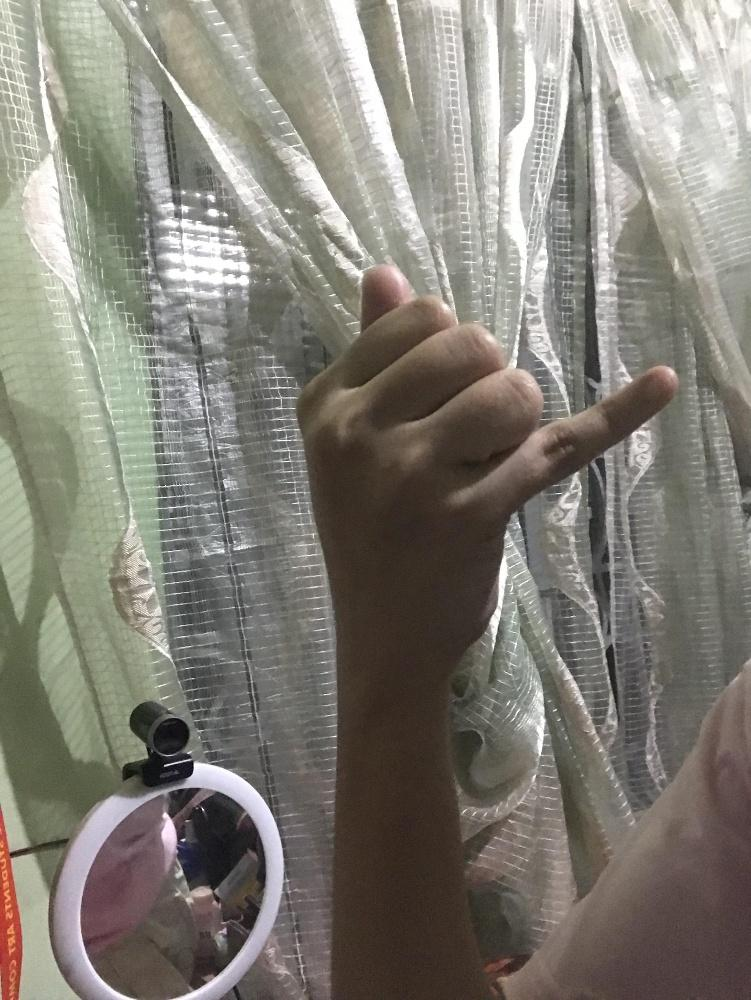j: (290, 258, 687, 672)
